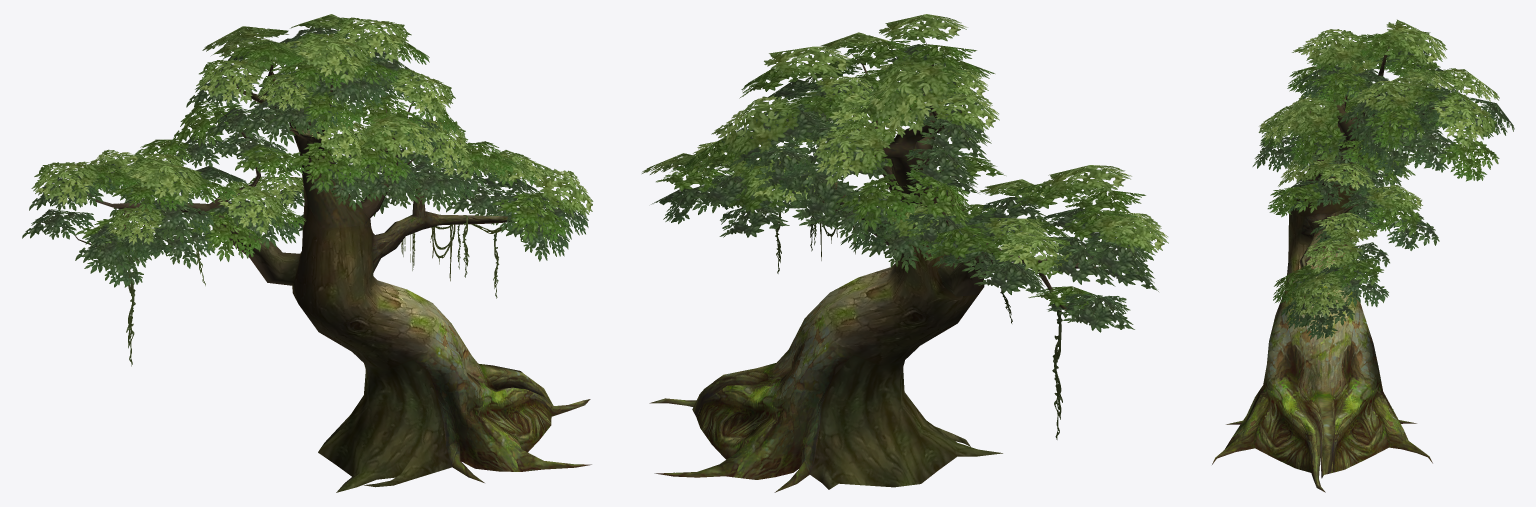
The model's file is S_Tree_Green129.FBX.
3 renders of one model, left to right at view 1: azimuth 30°, elevation 25°; view 2: azimuth 150°, elevation 25°; view 3: azimuth 270°, elevation 25°, orthographic. The views are drawn at different scales.
Parts seen in each view (by area): view 1: S_Tree_Green129; view 2: S_Tree_Green129; view 3: S_Tree_Green129.
Boxes of the visible parts, bbox=[...] form: S_Tree_Green129: bbox=[22, 14, 593, 492]; S_Tree_Green129: bbox=[642, 14, 1168, 492]; S_Tree_Green129: bbox=[1212, 19, 1514, 492].
Bounding box in the file's own units: 360 × 272 × 216.
Materials: 3 (3 with a texture image).
